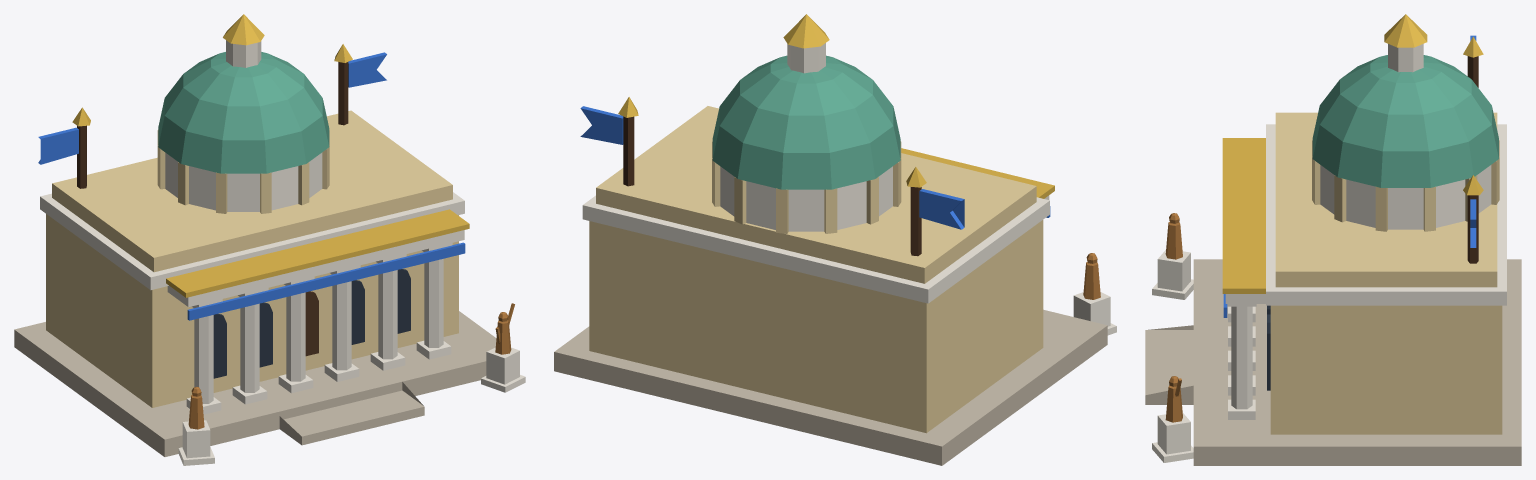
File: bld_library.glb
The picture shows the model from 3 angles, left to right: view 1: azimuth 30°, elevation 25°; view 2: azimuth 150°, elevation 25°; view 3: azimuth 270°, elevation 25°; orthographic projection. The views are drawn at different scales.
Visible parts, largest first — view 1: bld_library; view 2: bld_library; view 3: bld_library.
Part boxes in pixels (x1=…): bld_library: x1=14, y1=14, x2=525, y2=465; bld_library: x1=554, y1=14, x2=1116, y2=465; bld_library: x1=1145, y1=14, x2=1521, y2=465.
Size of the model in its own units: 0.46 by 0.41 by 0.39.
